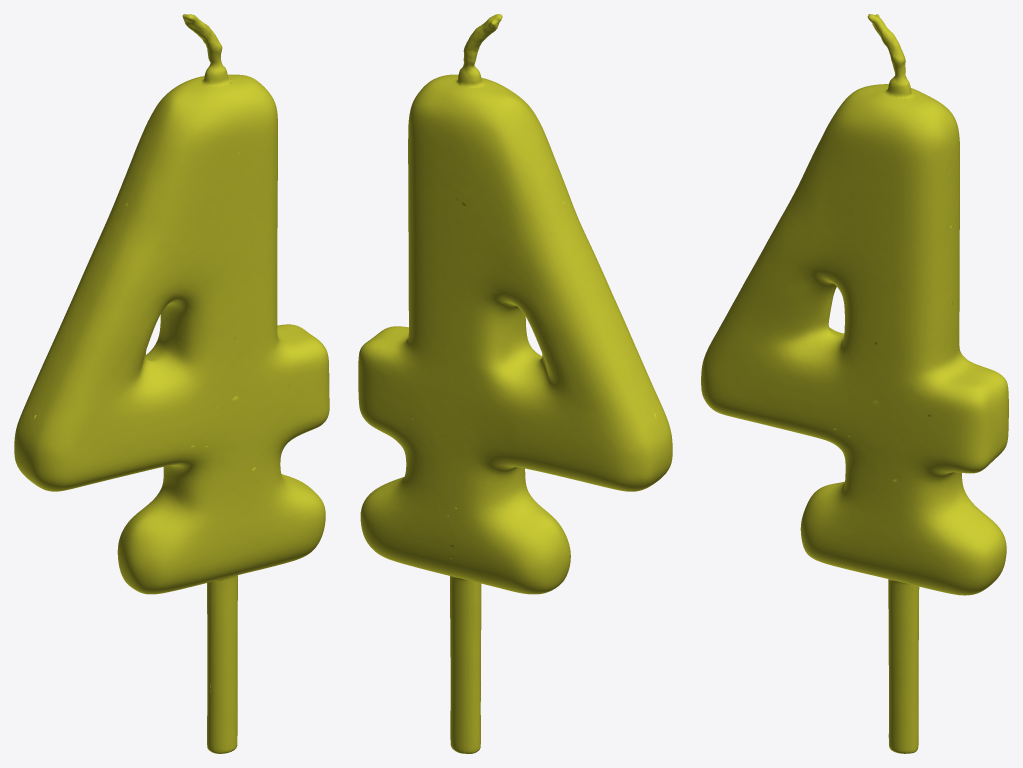
File: number4.glb
3 views of the same model, side by side, from view 1: azimuth 30°, elevation 25°; view 2: azimuth 150°, elevation 25°; view 3: azimuth 330°, elevation 25° (orthographic). The views are drawn at different scales.
Parts seen in each view (by area): view 1: Mesh1.001; view 2: Mesh1.001; view 3: Mesh1.001.
Part boxes in pixels (box(x1,y1,x2,y2)): Mesh1.001: box(14, 14, 329, 753); Mesh1.001: box(358, 14, 672, 753); Mesh1.001: box(701, 14, 1008, 753).
Bounding box in the file's own units: 0.3809 × 0.9119 × 0.0952.
